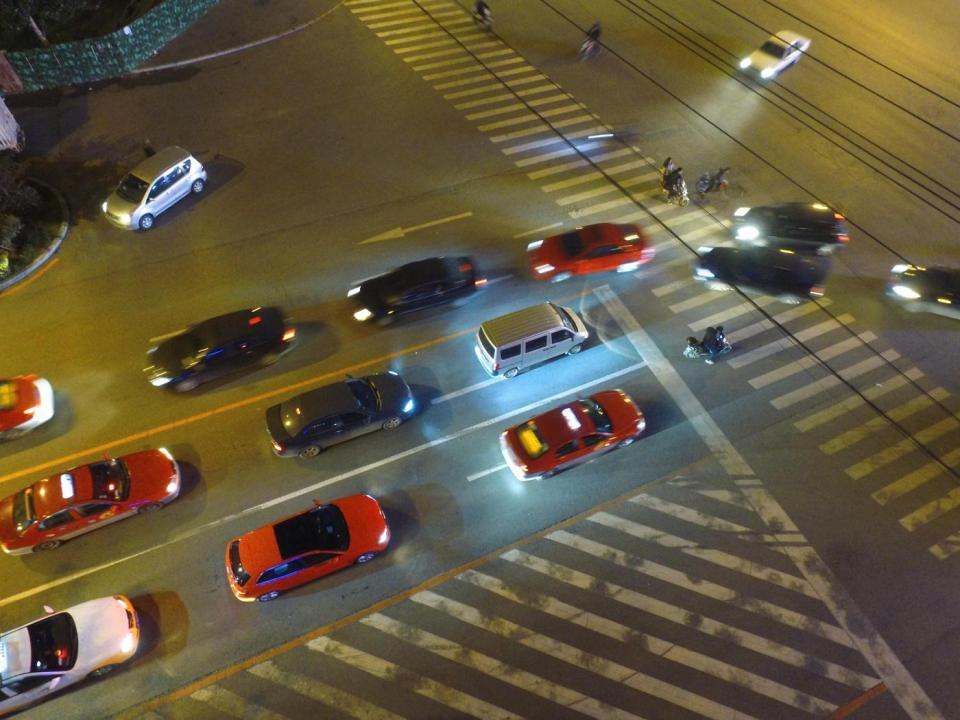car: (0, 444, 182, 563), (224, 492, 389, 601), (0, 595, 139, 715), (140, 304, 294, 396), (266, 369, 418, 461), (498, 388, 644, 481), (348, 250, 485, 327), (100, 146, 205, 234), (526, 220, 652, 286), (695, 241, 828, 302), (732, 198, 846, 255), (740, 29, 810, 82), (885, 266, 960, 314)
van: (478, 304, 586, 380)
